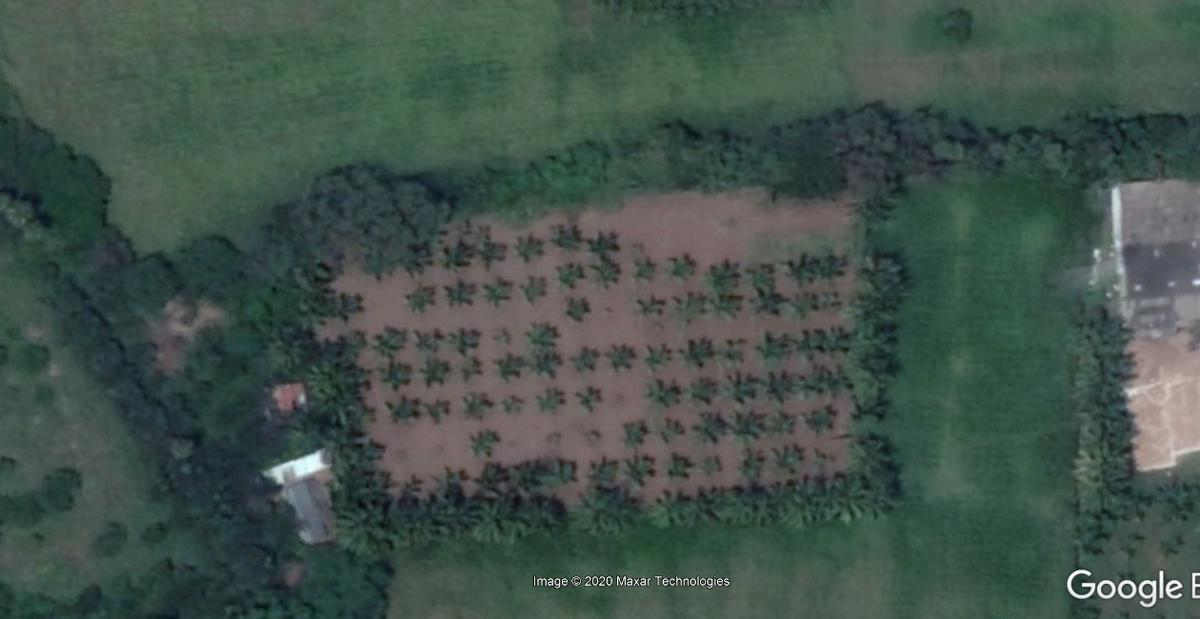coconut: (306, 359, 369, 402), (1069, 443, 1126, 490), (437, 485, 479, 547), (339, 499, 392, 548), (641, 490, 698, 535), (737, 483, 784, 537), (778, 485, 833, 531), (582, 493, 640, 536), (864, 239, 906, 295), (529, 495, 580, 539), (473, 499, 521, 545), (823, 472, 872, 514), (315, 391, 369, 424), (851, 429, 904, 462), (851, 382, 893, 420), (516, 459, 555, 498), (643, 379, 682, 417), (735, 445, 768, 486), (771, 439, 812, 472), (446, 325, 487, 357), (465, 427, 506, 459), (478, 461, 510, 501), (387, 395, 424, 429), (367, 327, 406, 359), (397, 243, 430, 280), (804, 362, 837, 399), (722, 376, 759, 408), (694, 411, 727, 445), (621, 455, 655, 488), (475, 236, 507, 271), (588, 227, 624, 258), (709, 261, 741, 295), (686, 337, 717, 372), (519, 223, 543, 268), (642, 339, 671, 375), (460, 390, 497, 418), (635, 298, 666, 331), (730, 411, 764, 441), (787, 250, 815, 286), (759, 332, 787, 368), (562, 295, 594, 326), (752, 286, 784, 317), (765, 372, 797, 403), (619, 421, 650, 453), (482, 278, 511, 312), (570, 344, 599, 378), (453, 355, 484, 386), (535, 390, 566, 421), (519, 273, 547, 307), (609, 339, 637, 373), (742, 264, 780, 289), (443, 281, 478, 308), (1156, 536, 1187, 566), (674, 293, 702, 326), (691, 376, 719, 409), (1121, 524, 1149, 557), (380, 363, 414, 389), (403, 284, 433, 313), (712, 291, 740, 322), (442, 243, 469, 275), (597, 259, 624, 291), (786, 290, 810, 325), (525, 320, 557, 346), (669, 251, 697, 280), (496, 354, 525, 382), (725, 334, 746, 372), (818, 245, 842, 278), (555, 262, 583, 290), (420, 357, 447, 386), (805, 408, 834, 435), (412, 325, 439, 353), (824, 323, 850, 352), (532, 350, 558, 378), (800, 327, 822, 359), (576, 386, 602, 412), (634, 257, 657, 282), (556, 225, 583, 245), (741, 261, 742, 264)
